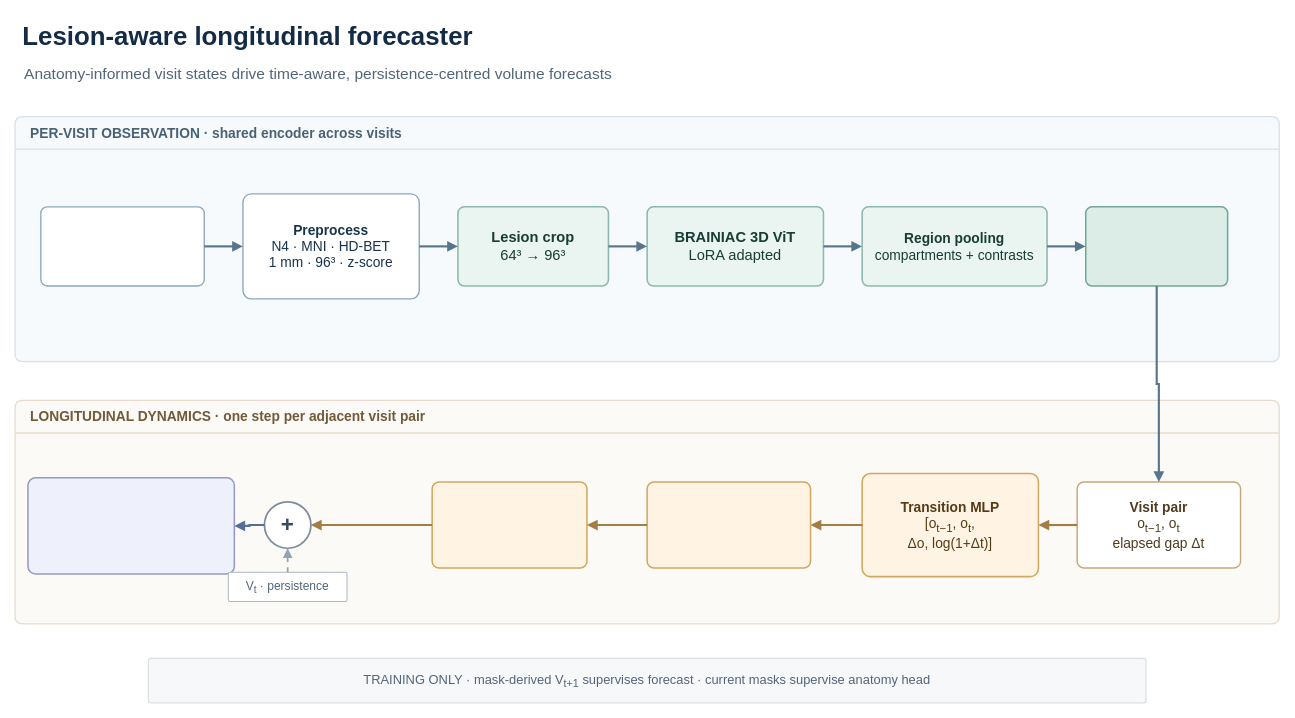
This 1295x718 diagram has some shape labels left out. The shapes that lost their labels are listed below. From the top down, each one's centre as x and y in pixels, then its label:
the point at 122,246: MRI t + mask t each visit
the point at 1156,246: o t 256-d state
the point at 131,525: V̂ t+1 Forecast log-volumes Enhancing · nonenhancing Edema
the point at 509,524: Residual head ΔV̂ t+1 zero initialized
the point at 728,524: Time-aware GRU history state h t
